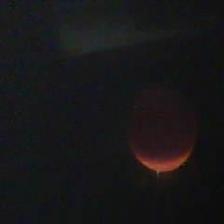fertile: (126, 71, 198, 173)
